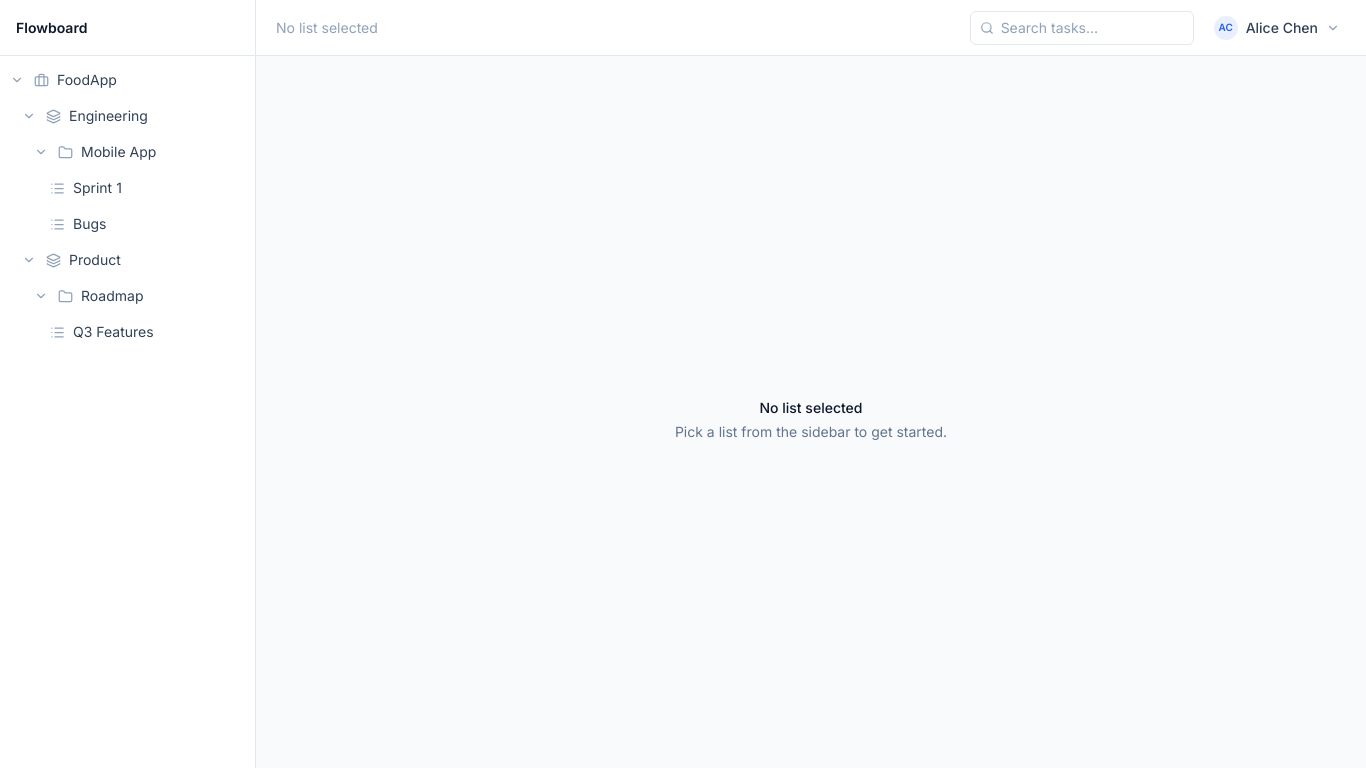
Test: Switching user changes the tree › gives Carol a different tree again
Click the button with aria-label "Switch user" at (1278, 28), box [1210,12,1346,44]
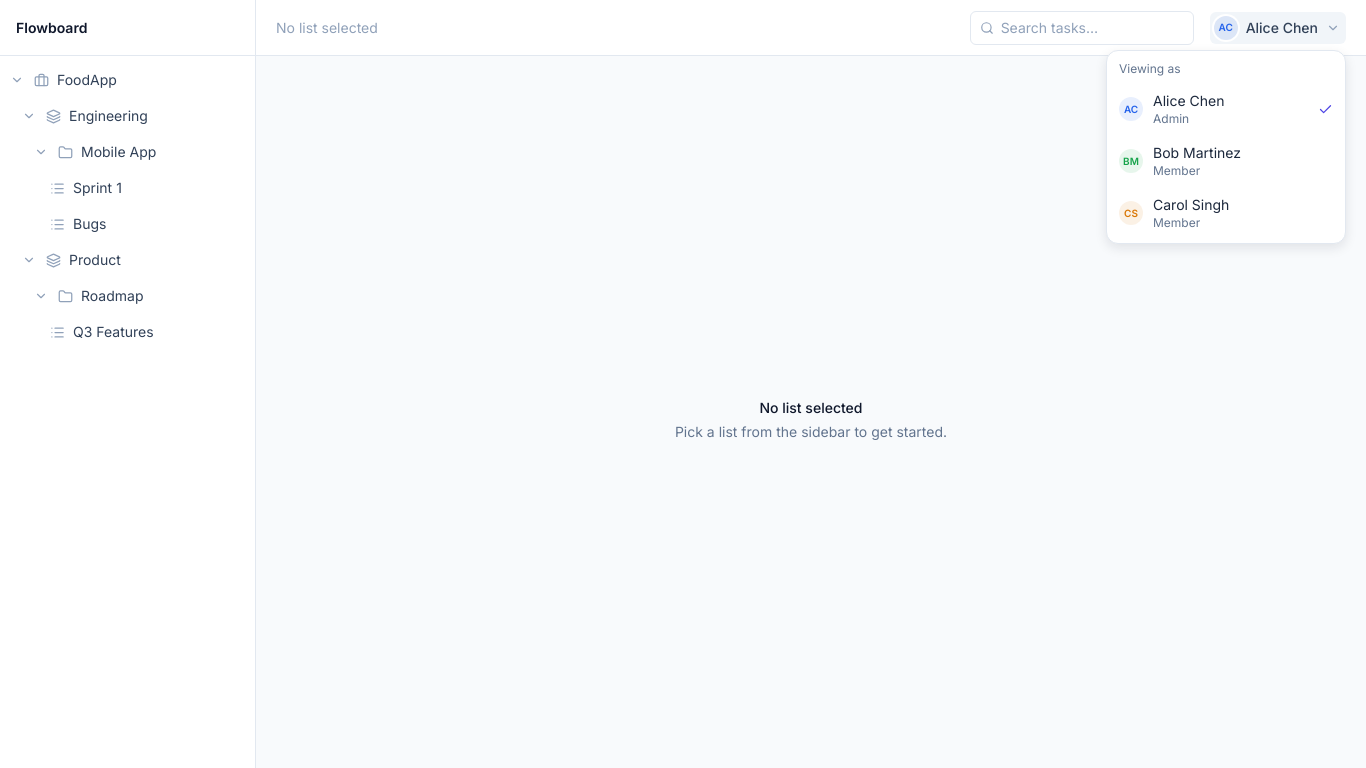
Click the menu item "CS Carol Singh member" at (1226, 213), box [1111,187,1341,239]
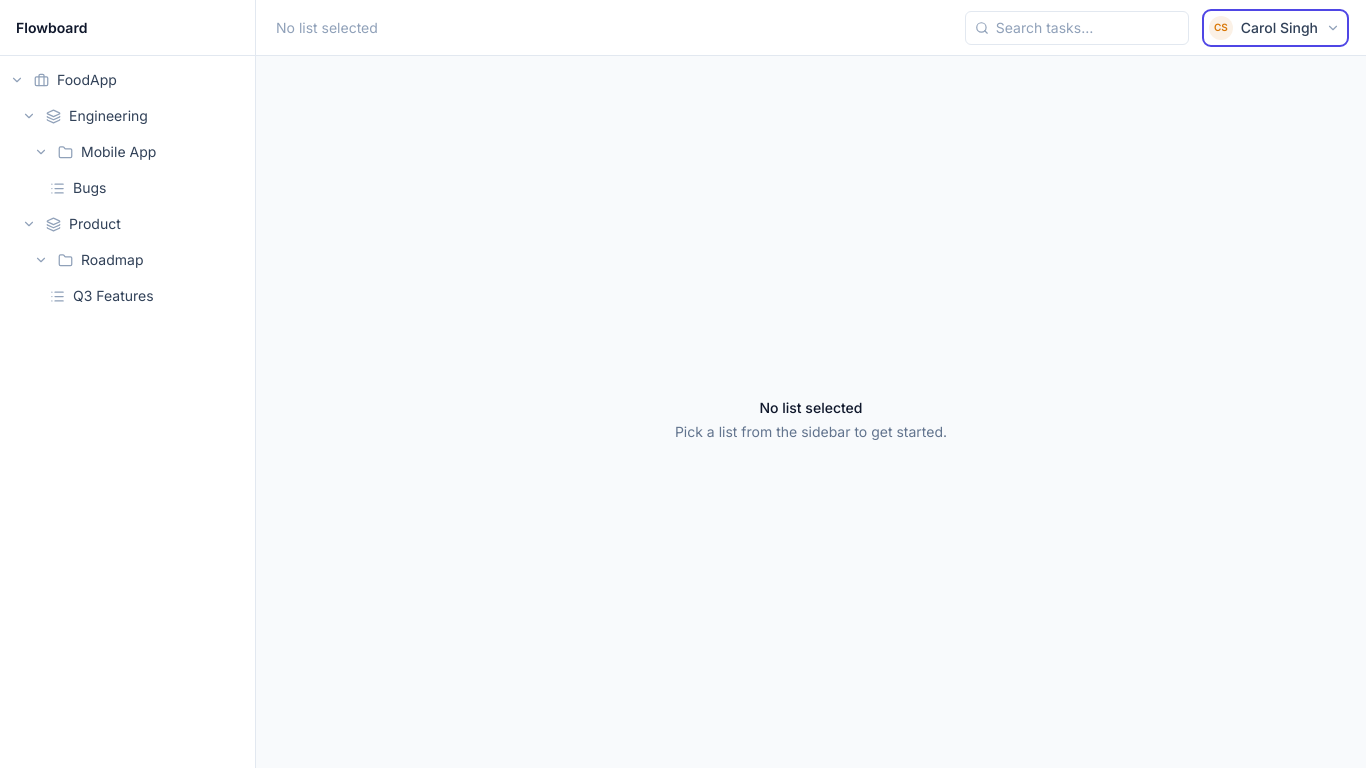
Check: the text "Bugs" is shown, box [73,178,106,198]
Check: the button "Sprint 1" no longer shows "Sprint 1"
